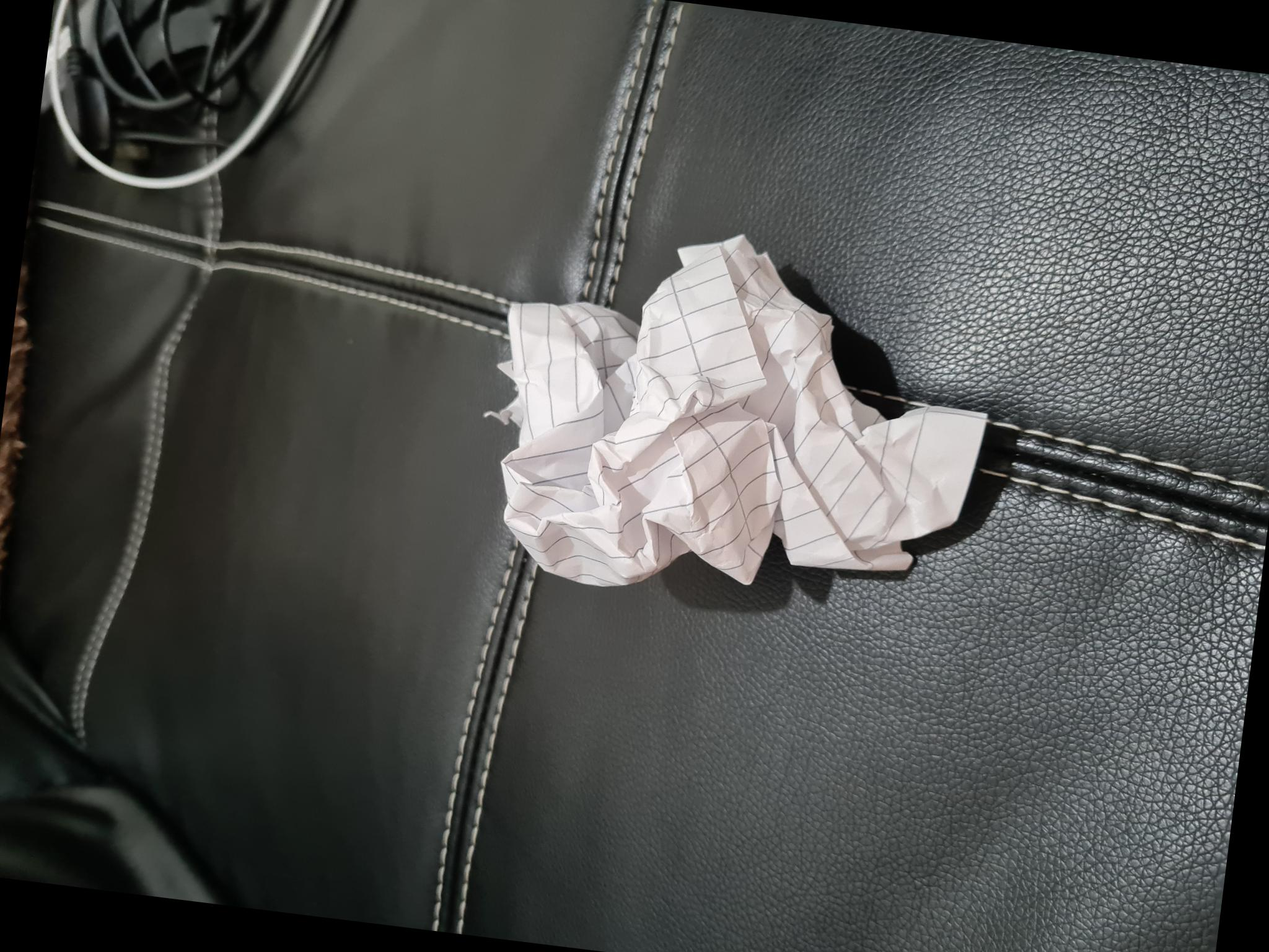Kertas: (327, 482, 710, 944)
